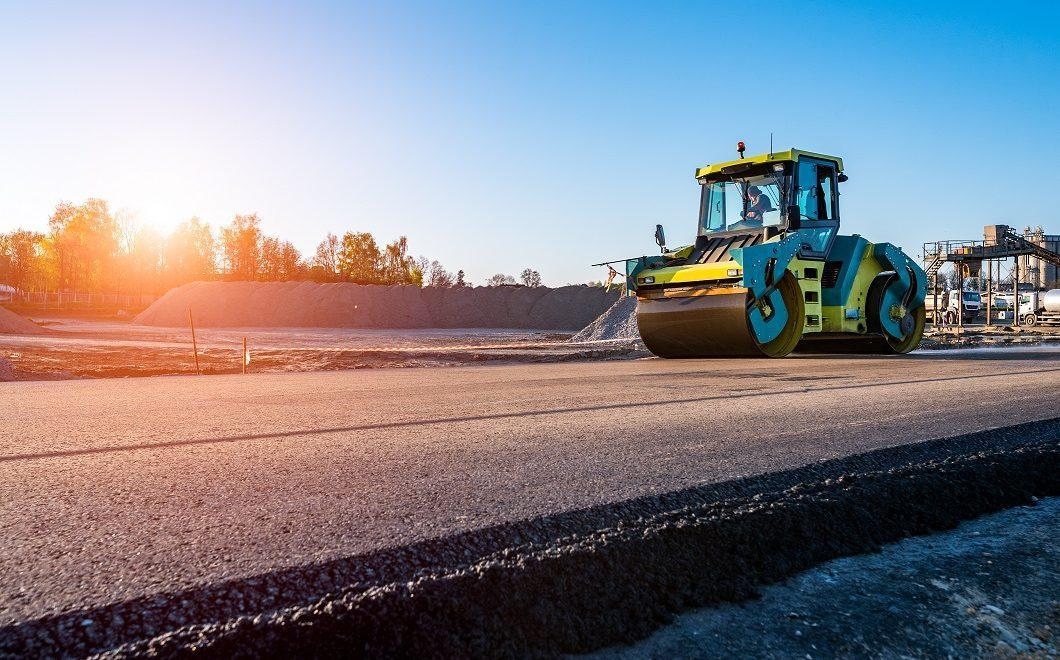car: (624, 129, 938, 361)
light: (45, 130, 257, 256)
